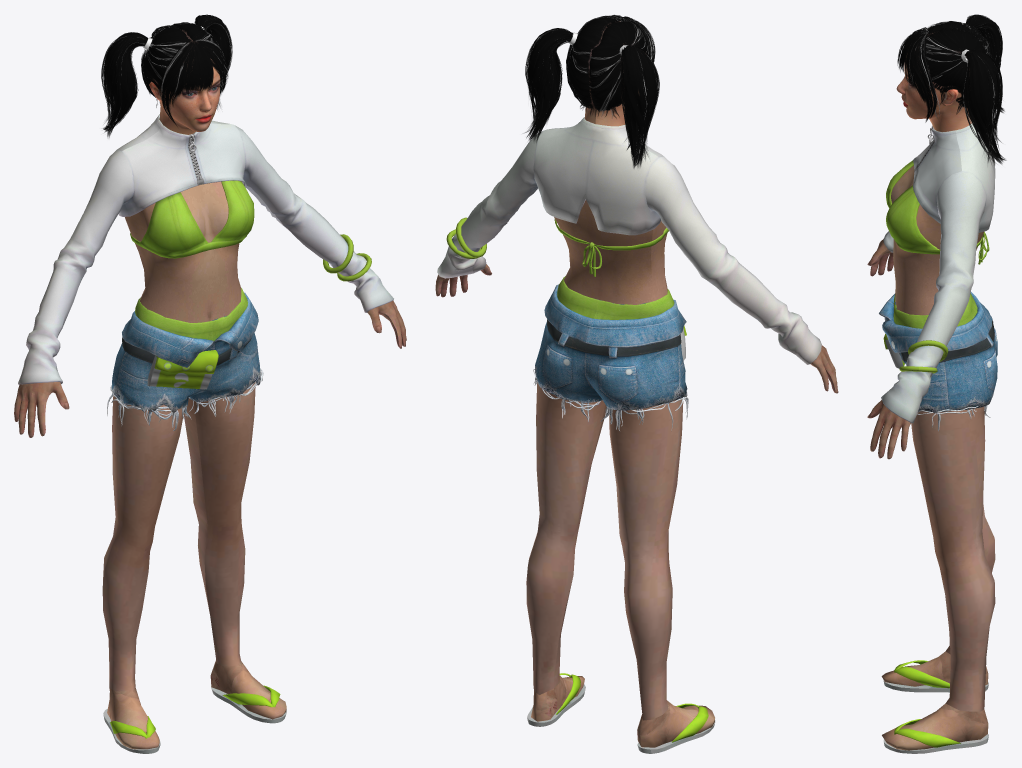
Rendered from robot.glb.
3 renders of one model, left to right at view 1: azimuth 30°, elevation 25°; view 2: azimuth 150°, elevation 25°; view 3: azimuth 270°, elevation 25°, orthographic. The views are drawn at different scales.
Visible parts, largest first — view 1: ig_teddu, Mesh_0034.rip.001, Mesh_0027.rip.001; view 2: ig_teddu, Mesh_0034.rip.001, Mesh_0027.rip.001; view 3: ig_teddu, Mesh_0034.rip.001, Mesh_0027.rip.001.
Part boxes in pixels (box(x1,y1,x2,y2)): ig_teddu: box(14, 114, 406, 753); Mesh_0034.rip.001: box(101, 14, 232, 137); Mesh_0027.rip.001: box(149, 29, 220, 134); ig_teddu: box(435, 117, 838, 753); Mesh_0034.rip.001: box(525, 15, 659, 168); Mesh_0027.rip.001: box(584, 21, 638, 126); ig_teddu: box(867, 123, 997, 753); Mesh_0034.rip.001: box(897, 14, 1006, 165); Mesh_0027.rip.001: box(896, 33, 971, 132).
Bounding box in the file's own units: 1.07 × 1.81 × 0.3352.
8 materials, 8 textured.
